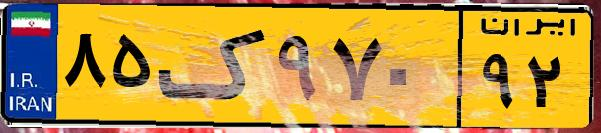0: (385, 28, 445, 110)
2: (525, 38, 570, 115)
5: (110, 28, 158, 98)
7: (330, 28, 385, 110)
8: (57, 26, 110, 100)
9: (270, 28, 330, 110), (475, 38, 525, 113)
ک: (158, 12, 270, 120)
